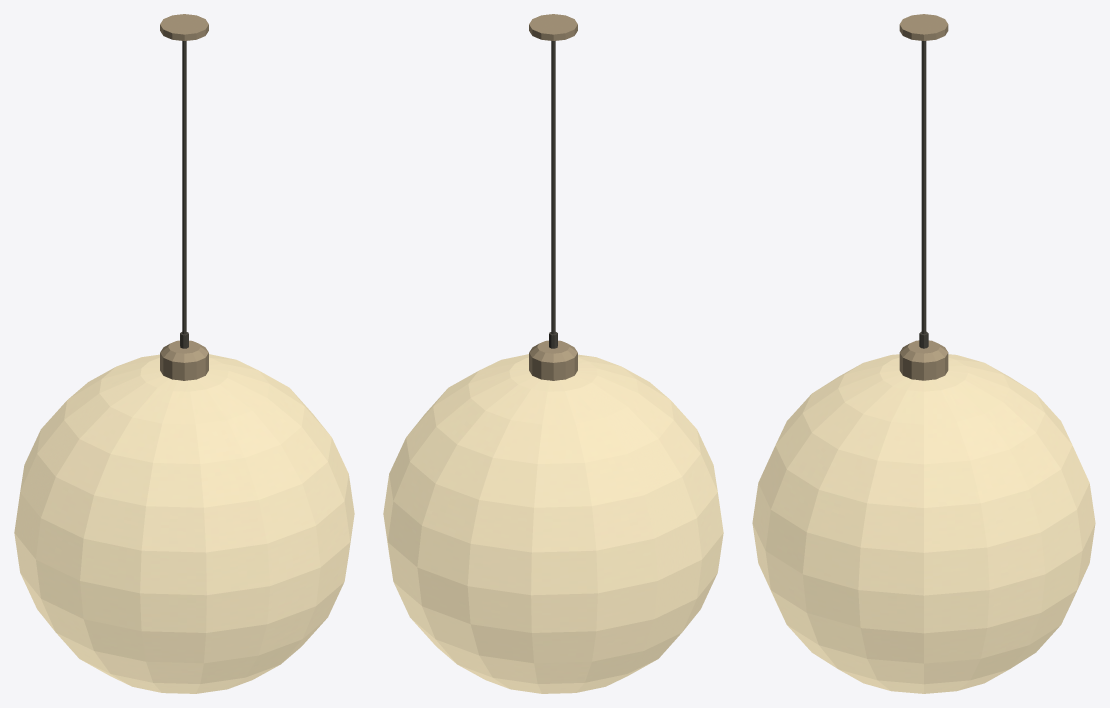
File: ball_light.glb
3 views of the same model, side by side, from view 1: azimuth 30°, elevation 25°; view 2: azimuth 150°, elevation 25°; view 3: azimuth 270°, elevation 25° (orthographic).
Parts seen in each view (by area): view 1: home_ball_light; view 2: home_ball_light; view 3: home_ball_light.
Part boxes in pixels (bbox=[...]): home_ball_light: bbox=[14, 14, 354, 693]; home_ball_light: bbox=[383, 14, 723, 693]; home_ball_light: bbox=[752, 14, 1095, 693].
Bounding box in the file's own units: 0.38 × 0.7995 × 0.38.
Materials: 2 (2 with a texture image).
